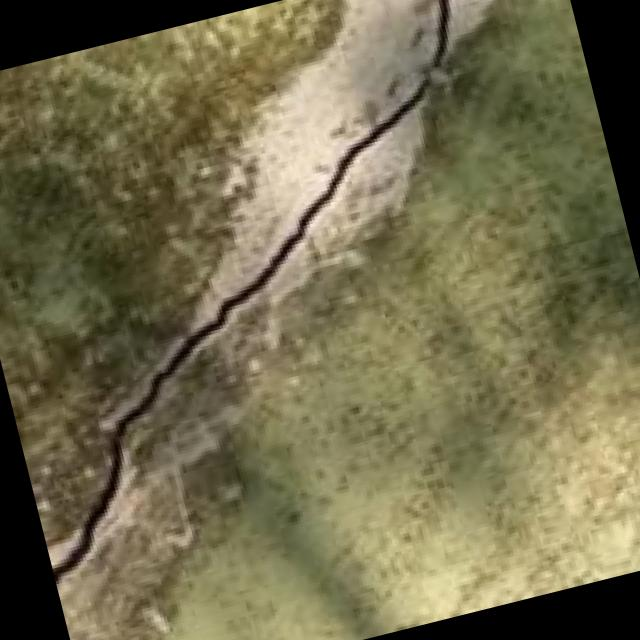crack: (0, 0, 623, 591)
